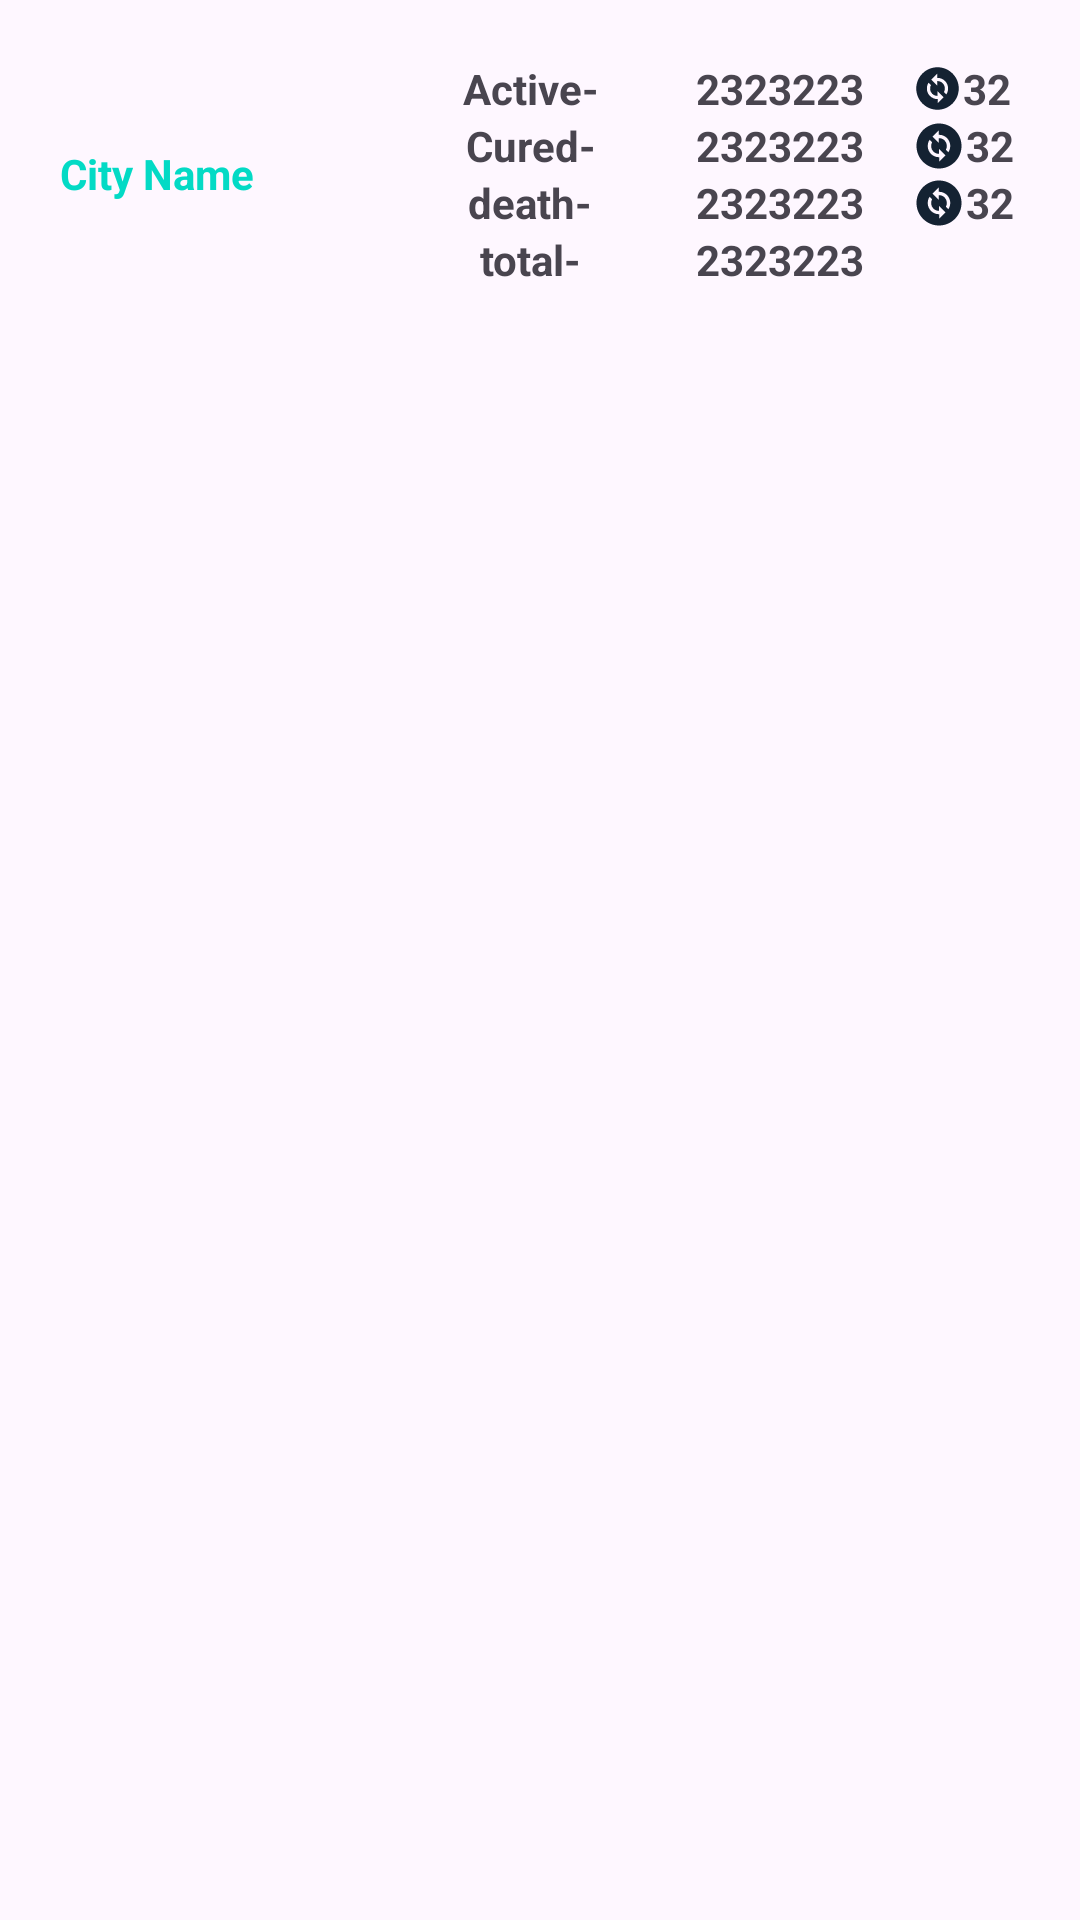

Named icons in this screenshot (1080 x 1920) and their bounding boxes, (x1, y1, x2, y2):
change: (916, 67, 959, 110), (916, 123, 962, 169), (916, 180, 962, 226)
